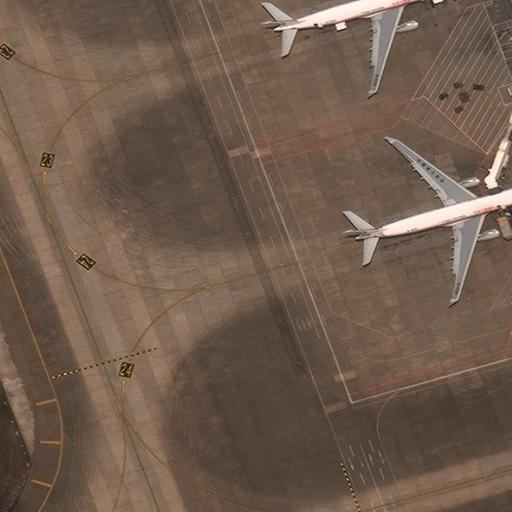Large Civil Transport: (342, 138, 512, 301), (261, 0, 448, 93)
